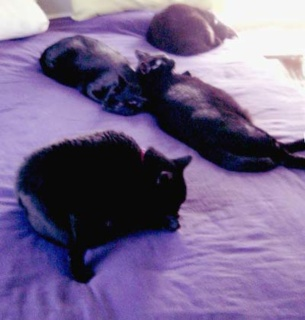Cat: (13, 130, 190, 280), (135, 47, 304, 168), (35, 35, 148, 116)
